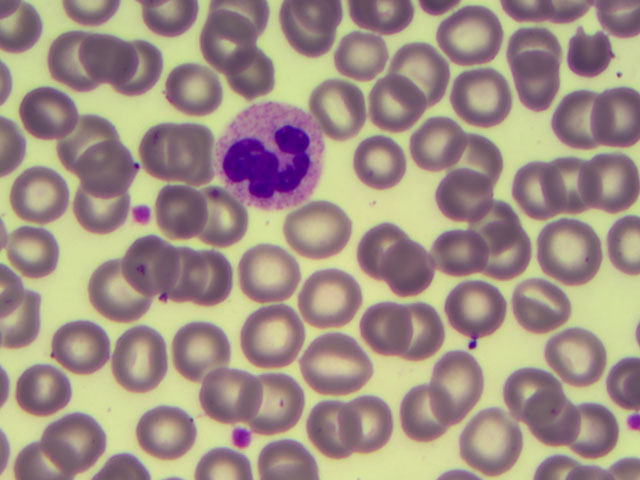Platelets: (132, 208, 150, 224), (234, 432, 249, 446), (628, 416, 640, 429)
RBC: (304, 400, 367, 461), (537, 217, 599, 277), (581, 152, 640, 212), (528, 153, 587, 213), (171, 322, 232, 380), (242, 305, 299, 367), (115, 325, 167, 392), (337, 396, 395, 455), (562, 399, 618, 457), (442, 6, 498, 64), (453, 66, 509, 124), (46, 411, 102, 467), (513, 50, 561, 114), (526, 392, 581, 447), (511, 280, 570, 331), (281, 1, 331, 61), (593, 83, 640, 145), (551, 88, 598, 150), (154, 248, 207, 301), (187, 251, 240, 304), (79, 263, 132, 316), (254, 374, 307, 427), (321, 350, 374, 403), (362, 300, 415, 353), (301, 269, 354, 322), (351, 138, 404, 191), (289, 202, 342, 255), (142, 121, 195, 174), (159, 126, 212, 179), (169, 60, 222, 113), (78, 31, 131, 84), (58, 112, 111, 165), (19, 87, 72, 140), (83, 141, 136, 194), (139, 402, 192, 455), (16, 362, 69, 415), (13, 167, 66, 220), (6, 222, 59, 275), (54, 320, 107, 373), (240, 247, 293, 300), (124, 237, 177, 290), (74, 185, 127, 238), (393, 303, 446, 356), (399, 387, 452, 440), (427, 354, 480, 407), (447, 279, 500, 332), (432, 224, 485, 277), (358, 224, 411, 277), (436, 168, 489, 221), (425, 352, 478, 405), (513, 163, 566, 216), (549, 329, 602, 382), (463, 411, 516, 464), (506, 367, 559, 420), (192, 194, 243, 246), (199, 17, 254, 64), (1, 289, 43, 350), (406, 121, 464, 165), (335, 31, 388, 78), (368, 79, 421, 126), (450, 137, 503, 183), (203, 373, 259, 415), (225, 49, 276, 95), (155, 184, 201, 235), (509, 24, 557, 70), (114, 44, 159, 92), (46, 34, 89, 84), (1, 5, 43, 55), (608, 217, 640, 280), (262, 443, 312, 480), (568, 30, 611, 72), (57, 1, 121, 27), (597, 1, 640, 35), (200, 453, 251, 480), (145, 1, 191, 29), (534, 1, 587, 16)
WBC: (219, 101, 324, 208)
